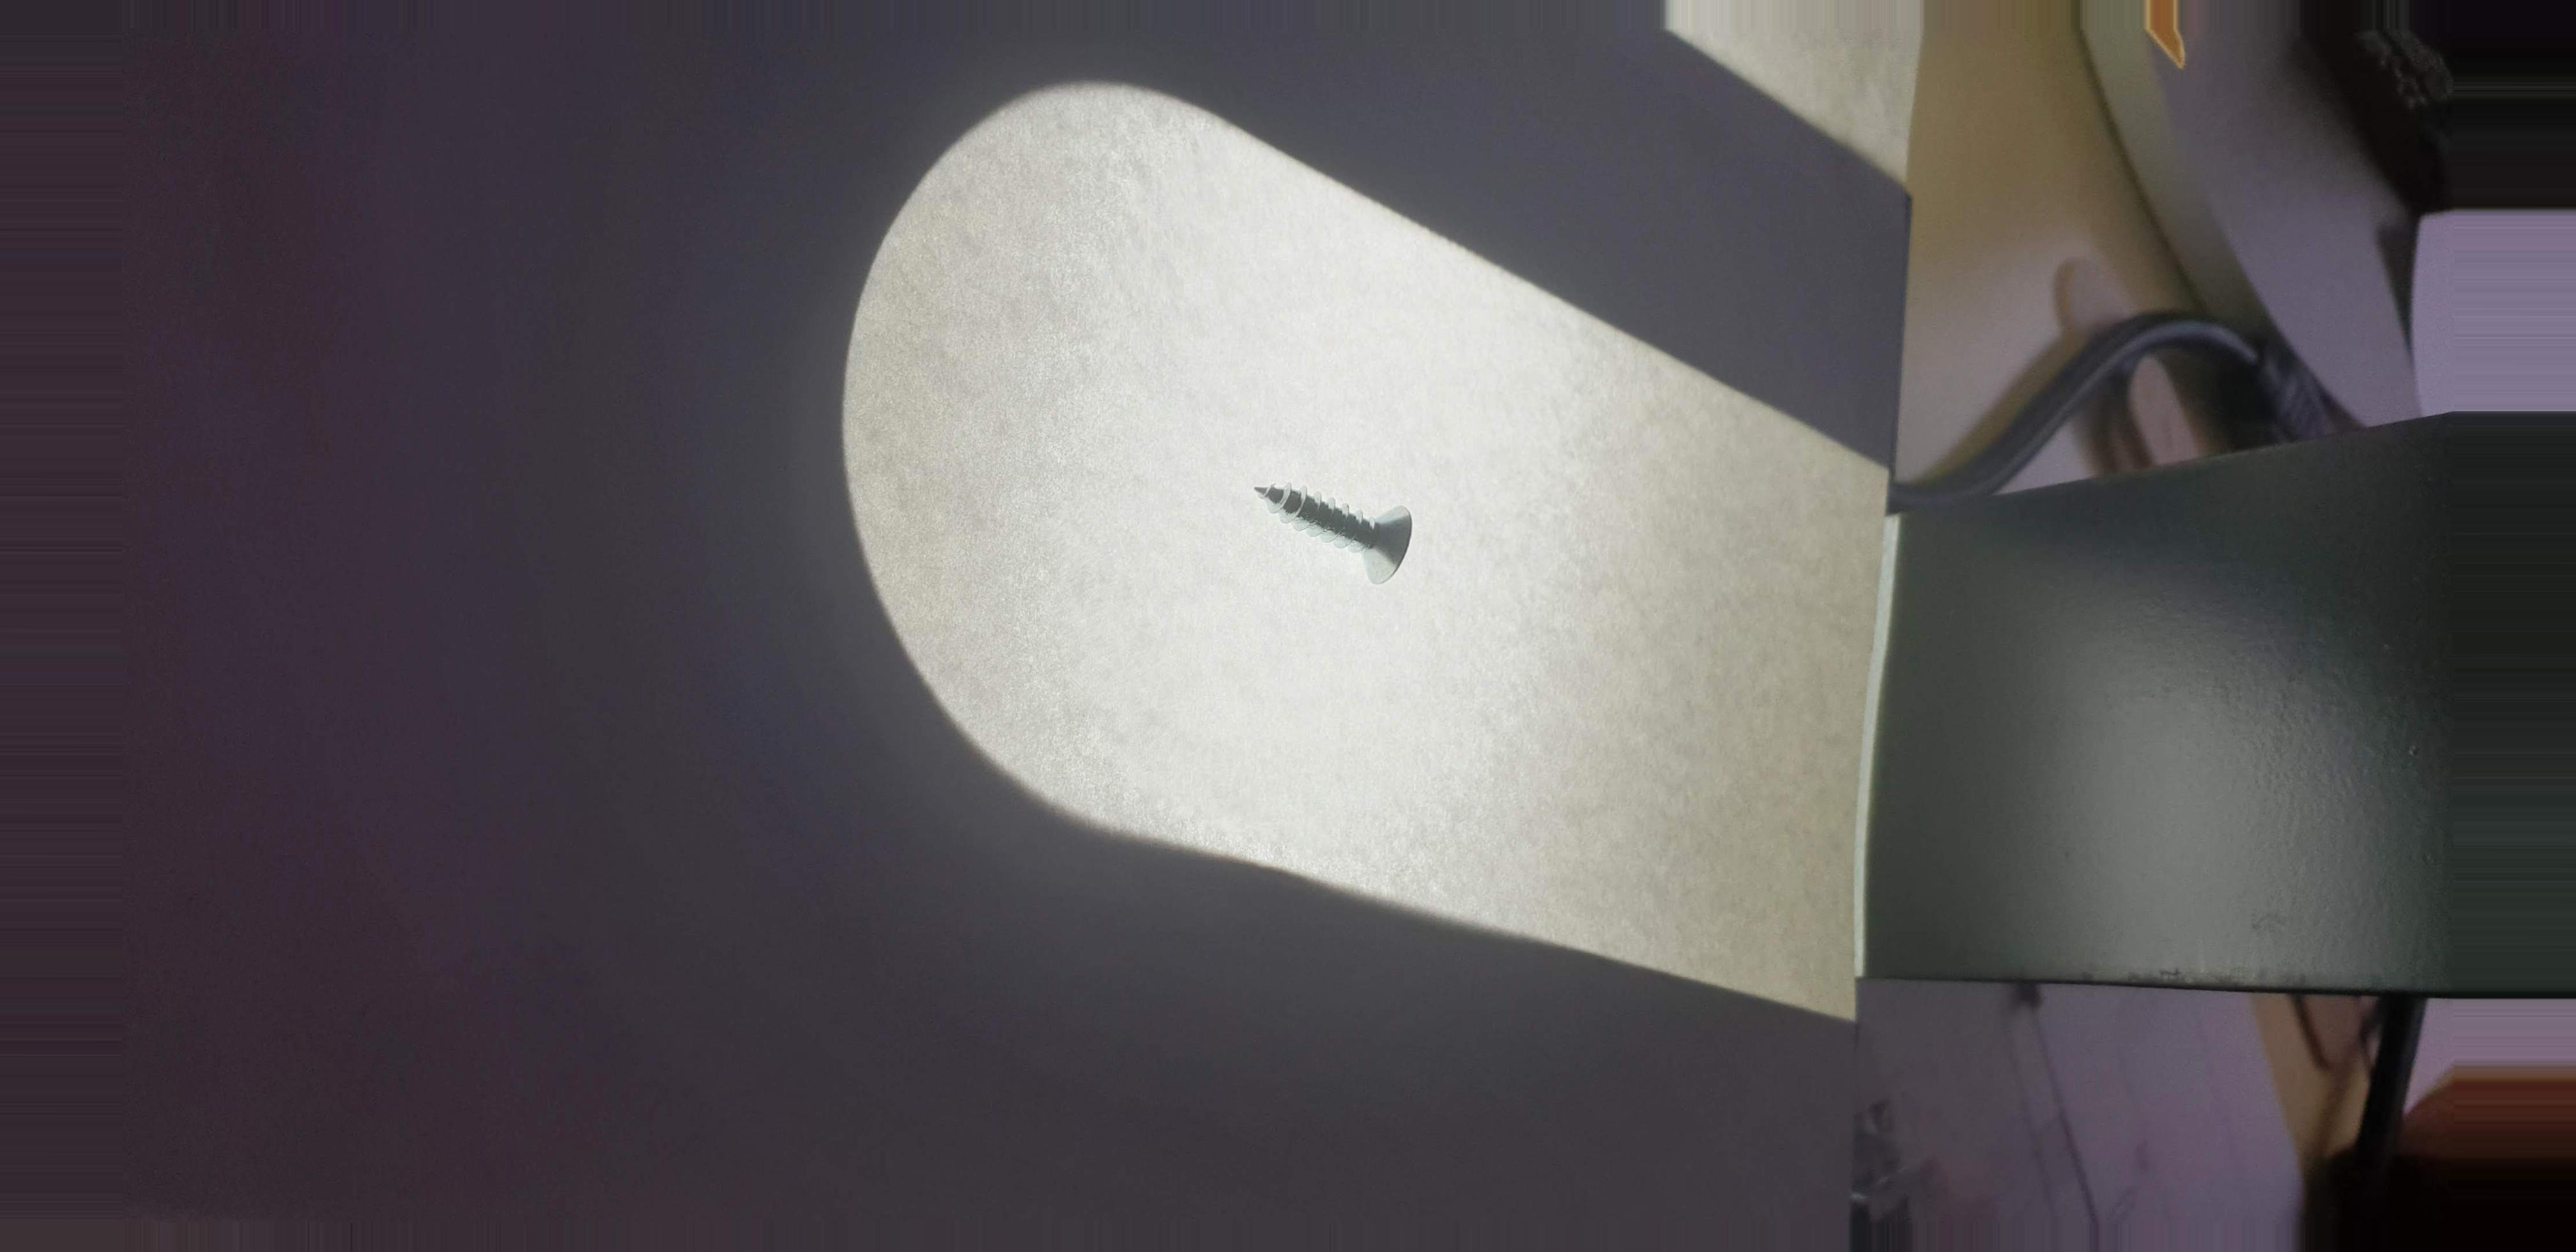S003: (1232, 447, 1433, 600)
